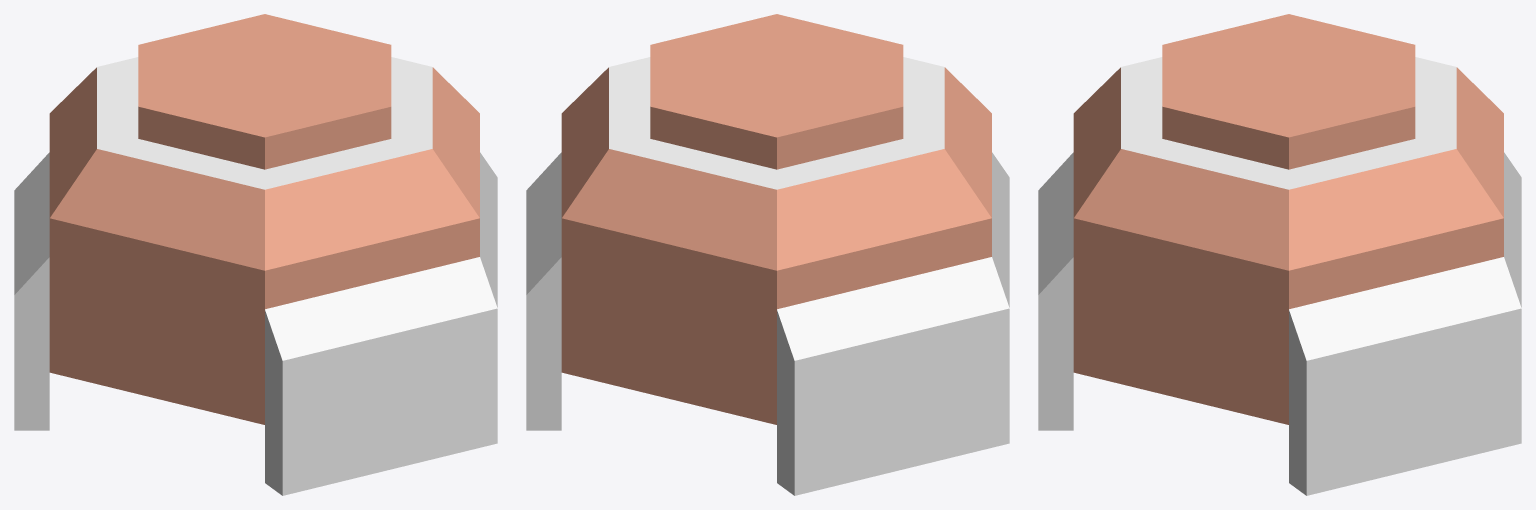
The model's file is barrelLarge.glb.
3 renders of one model, left to right at view 1: azimuth 30°, elevation 25°; view 2: azimuth 150°, elevation 25°; view 3: azimuth 270°, elevation 25°, orthographic.
Parts seen in each view (by area): view 1: barrelLarge; view 2: barrelLarge; view 3: barrelLarge.
Boxes of the visible parts, box(x1,y1,x2,y2) form: barrelLarge: box(14, 14, 497, 495); barrelLarge: box(526, 14, 1009, 495); barrelLarge: box(1038, 14, 1521, 495).
Size of the model in its own units: 7.87 by 4.7 by 6.81.
